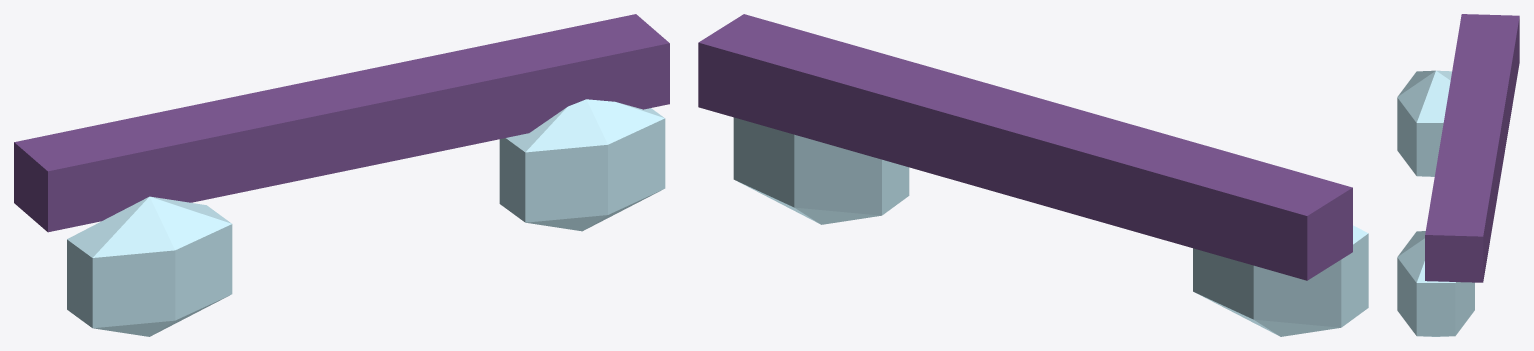
The model's file is hostile_eye_01.glb.
3 renders of one model, left to right at view 1: azimuth 30°, elevation 25°; view 2: azimuth 150°, elevation 25°; view 3: azimuth 270°, elevation 25°, orthographic. The views are drawn at different scales.
Parts seen in each view (by area): view 1: hostile_eye_01; view 2: hostile_eye_01; view 3: hostile_eye_01.
Boxes of the visible parts, box(x1,y1,x2,y2) form: hostile_eye_01: box(14, 14, 669, 336); hostile_eye_01: box(698, 14, 1368, 336); hostile_eye_01: box(1397, 14, 1519, 336).
Size of the model in its own units: 0.3619 by 0.0998 by 0.0842.
